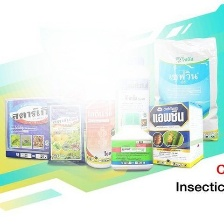insecticide: (35, 23, 127, 142), (149, 34, 221, 143), (2, 93, 69, 162), (144, 99, 207, 170), (113, 52, 153, 157), (81, 71, 117, 170), (42, 98, 88, 168), (107, 109, 156, 174)
